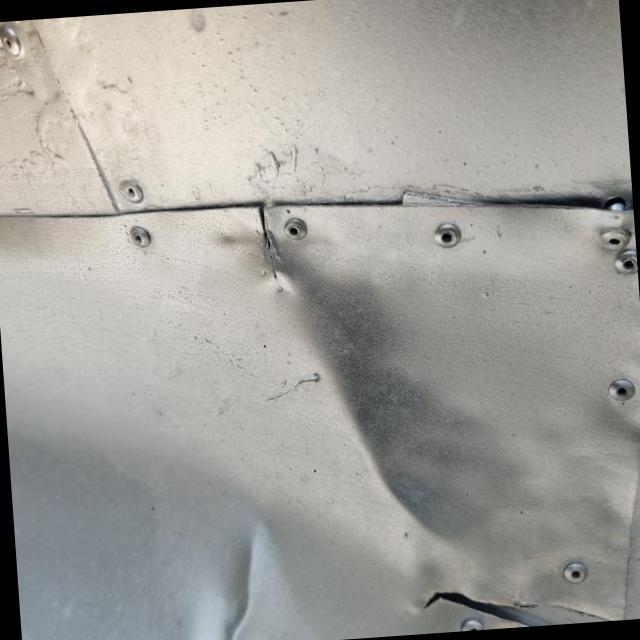Dent: (163, 200, 522, 602), (161, 487, 318, 640)
Rupture: (408, 562, 618, 634), (236, 190, 294, 286)
